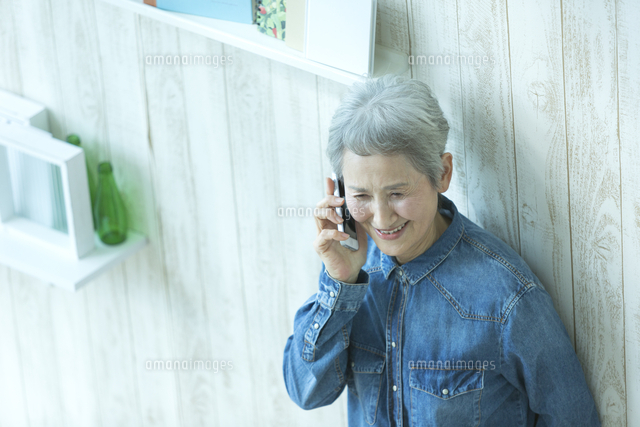phone: (313, 177, 363, 257)
talk: (313, 169, 420, 272)
